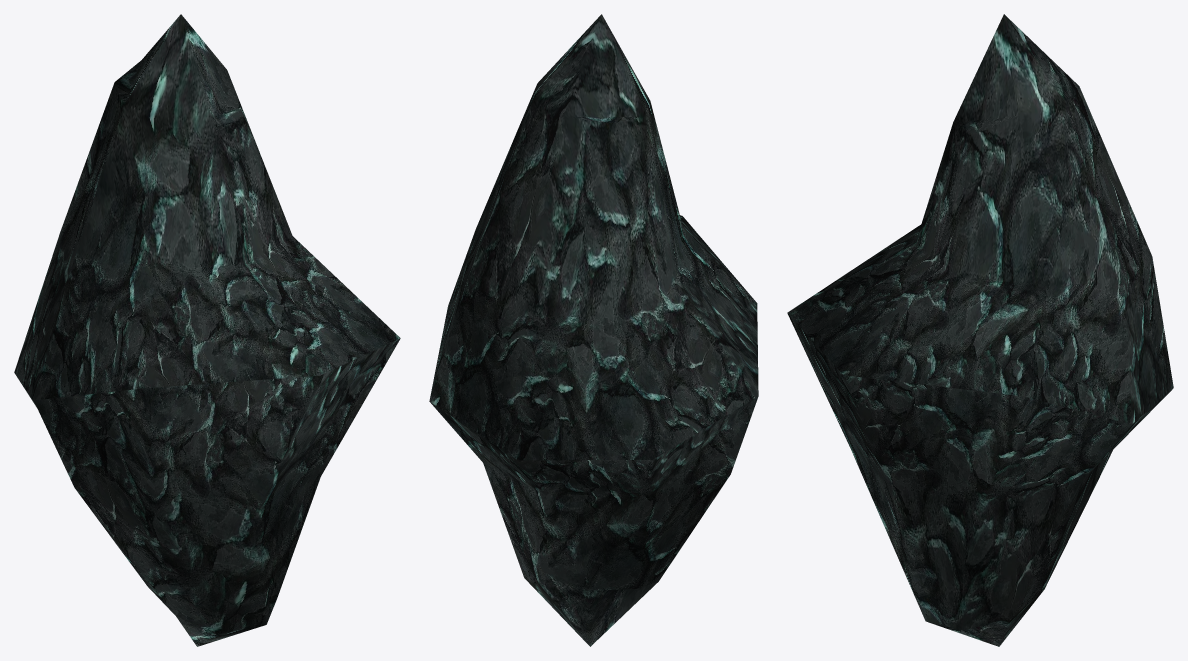
Rendered from rock-01.glb.
The picture shows the model from 3 angles, left to right: view 1: azimuth 30°, elevation 25°; view 2: azimuth 150°, elevation 25°; view 3: azimuth 270°, elevation 25°; orthographic projection.
Visible parts, largest first — view 1: Rock_01; view 2: Rock_01; view 3: Rock_01.
Boxes of the visible parts, x1=… form: Rock_01: x1=14, y1=14, x2=400, y2=646; Rock_01: x1=429, y1=14, x2=758, y2=646; Rock_01: x1=787, y1=14, x2=1173, y2=646.
Bounding box in the file's own units: 3.8 × 7.83 × 4.38.
1 material, 1 textured.
